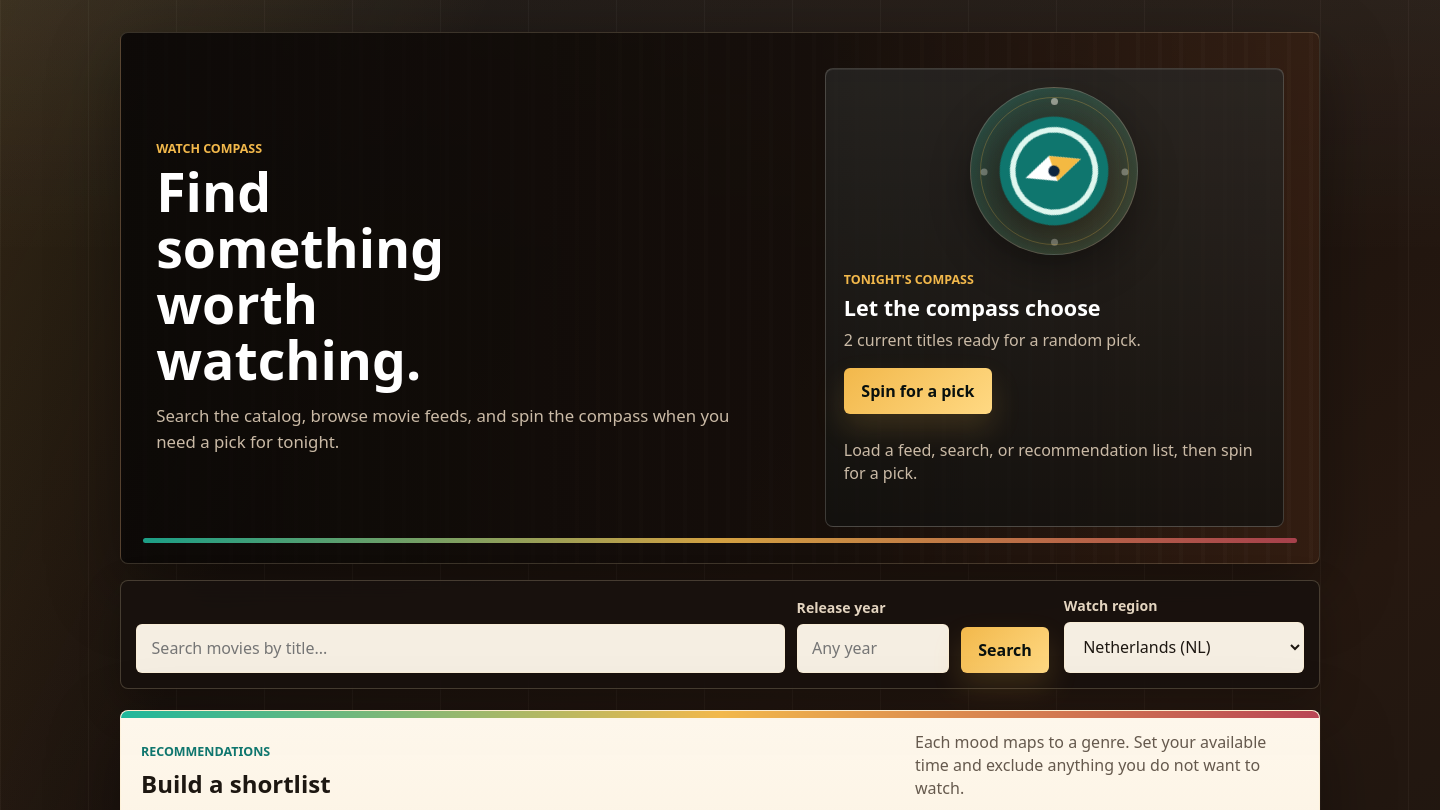
Test: App › includes the release year filter when searching
Type "Arrival" into the search field labelled "Search movies" at (460, 648), box x1=136 y1=624 x2=785 y2=673
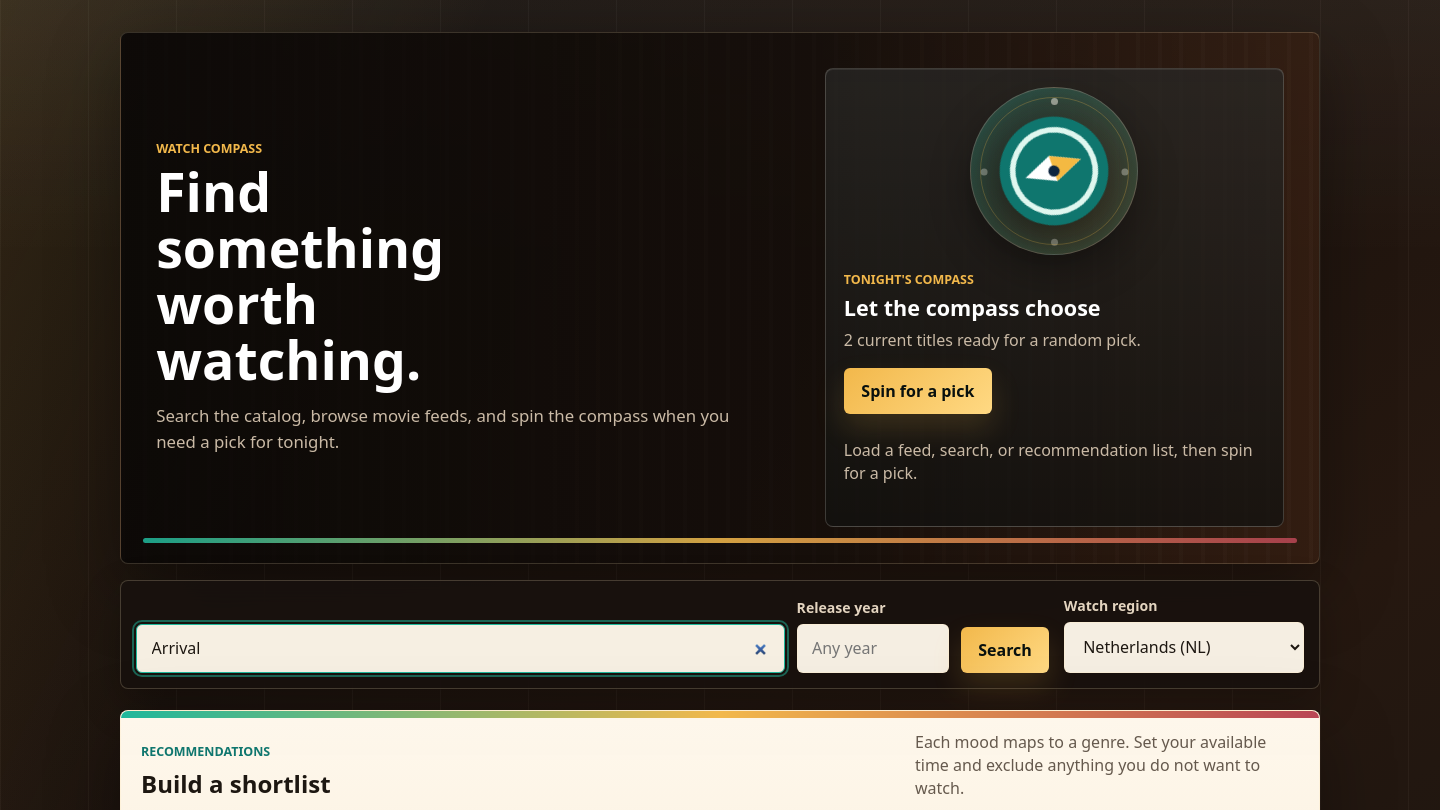
Type "2016" into the number field labelled "Release year" at (873, 648), box x1=797 y1=624 x2=949 y2=673
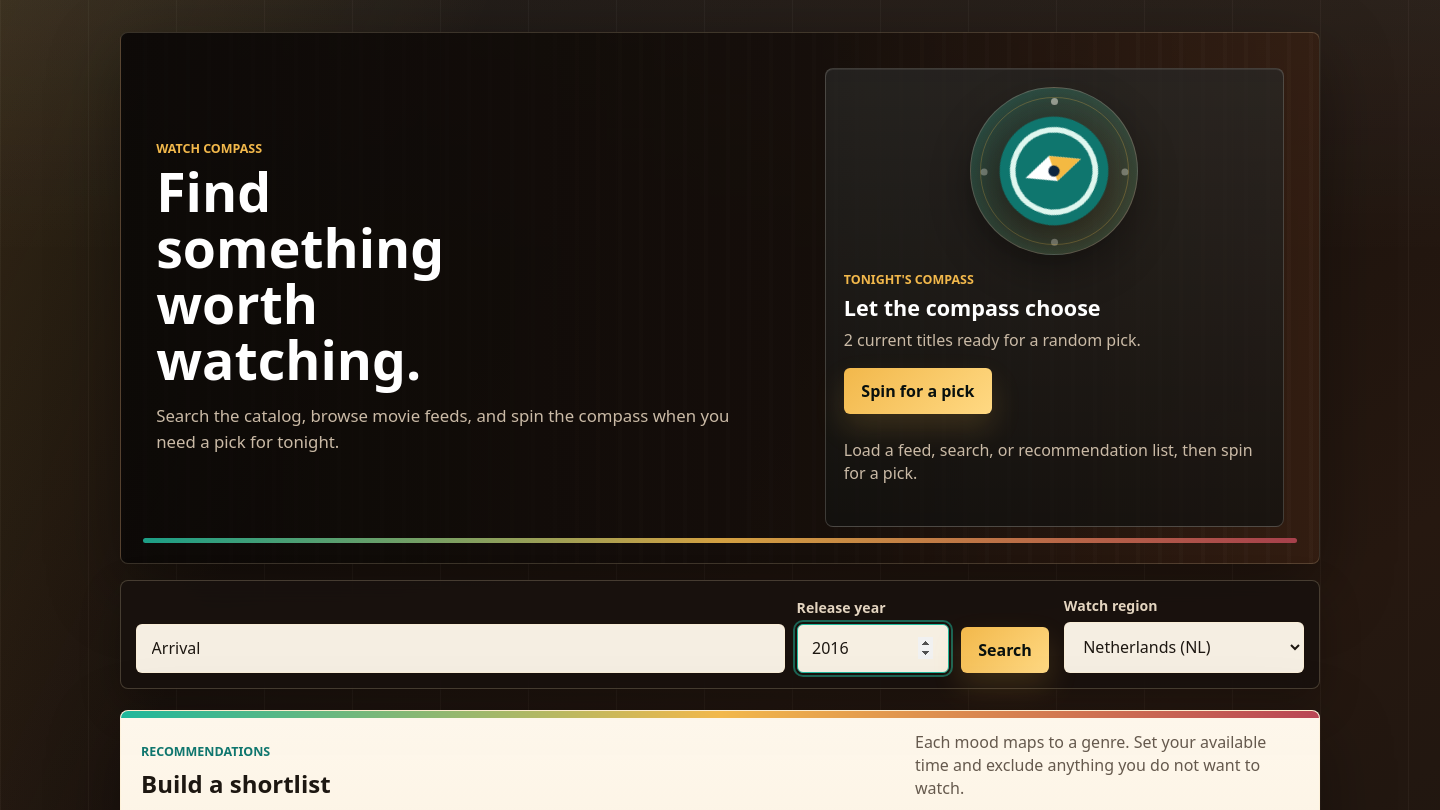
Click the button "Search" at (1005, 650), box x1=961 y1=627 x2=1049 y2=673
(page scrolled)
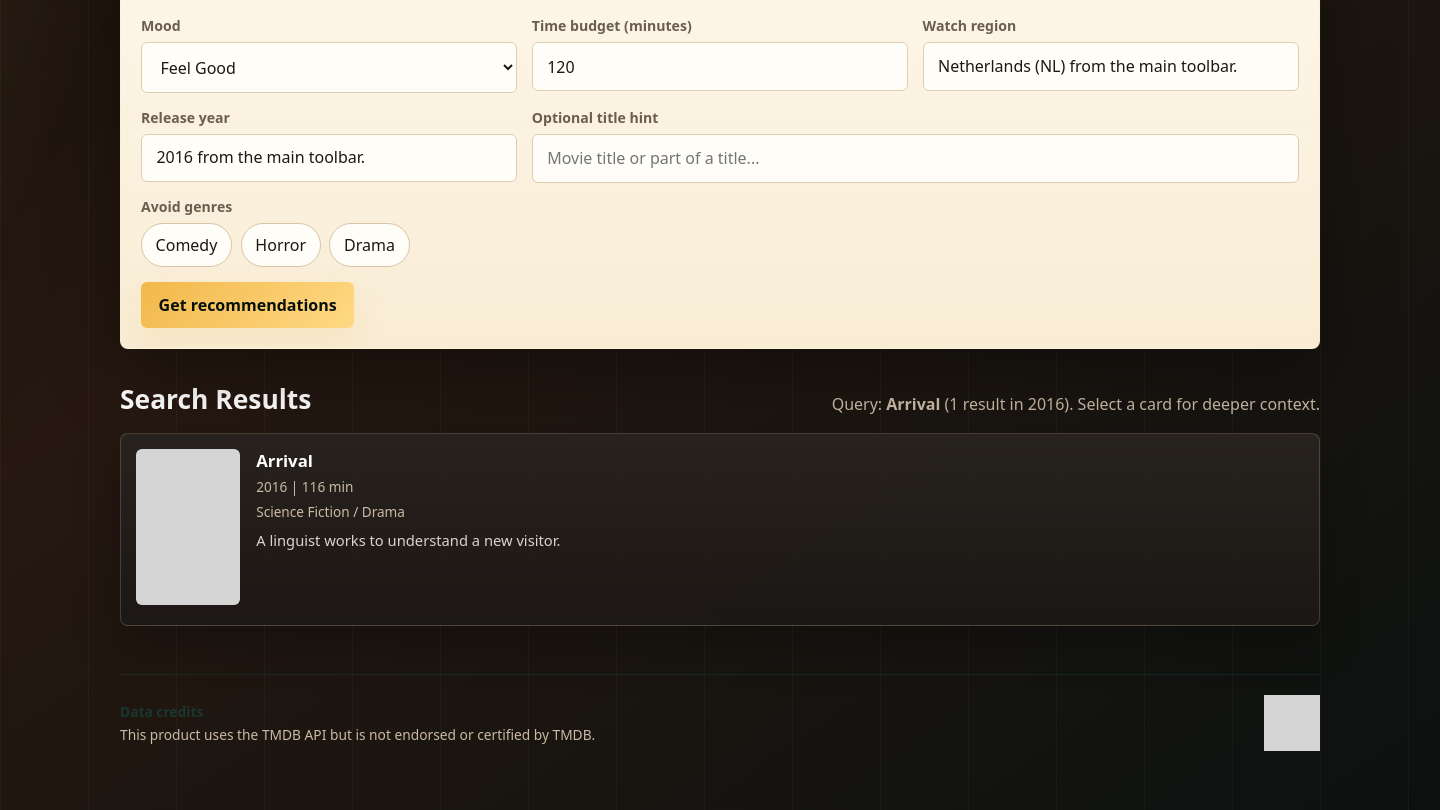
Expected: the heading "Arrival" is shown, x1=256 y1=449 x2=313 y2=472
Now the element that starts with "Query:" shows "(1 result in 2016). Select a card for deeper context.", box x1=940 y1=394 x2=1320 y2=416
